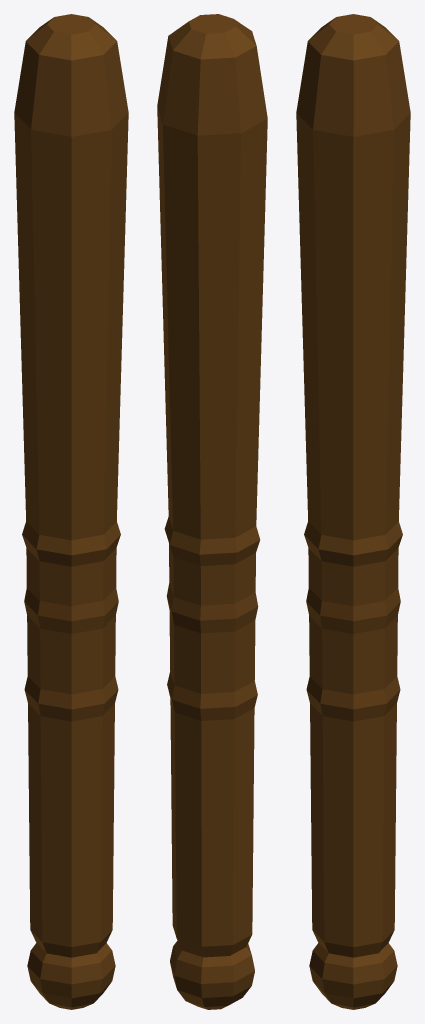
Rendered from Baton.fbx.
3 renders of one model, left to right at view 1: azimuth 90°, elevation 25°; view 2: azimuth 210°, elevation 25°; view 3: azimuth 270°, elevation 25°, orthographic.
Parts seen in each view (by area): view 1: Baton; view 2: Baton; view 3: Baton.
Boxes of the visible parts, left/top/right/bottom form: Baton: left=14, top=14, right=128, bottom=1009; Baton: left=157, top=14, right=267, bottom=1009; Baton: left=296, top=14, right=410, bottom=1009.
Bounding box in the file's own units: 8.36 × 79.11 × 8.36.
